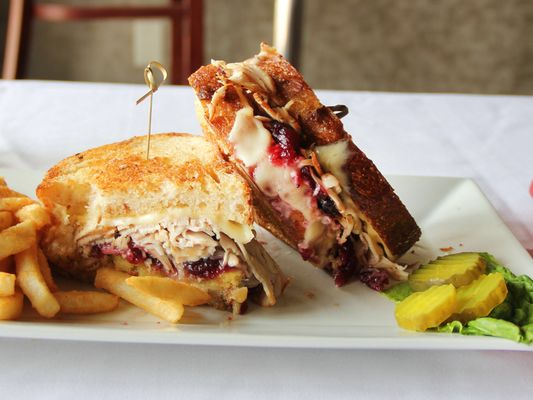soup: (189, 41, 423, 292), (34, 130, 288, 321)
